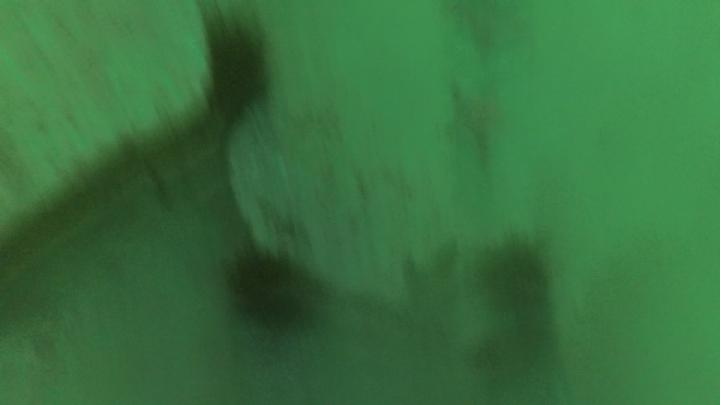holothurian: (446, 76, 511, 167)
starfish: (216, 231, 332, 346), (198, 22, 276, 130), (473, 224, 554, 327)
